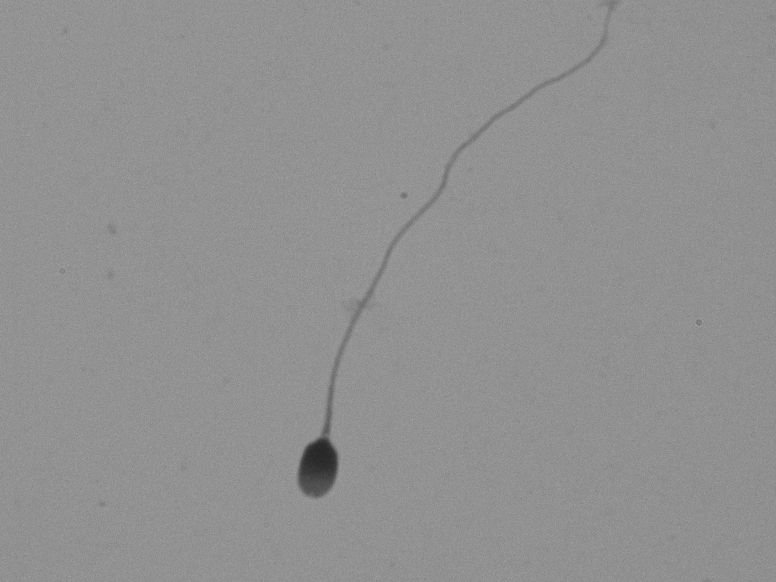Normal: (229, 29, 609, 536)
